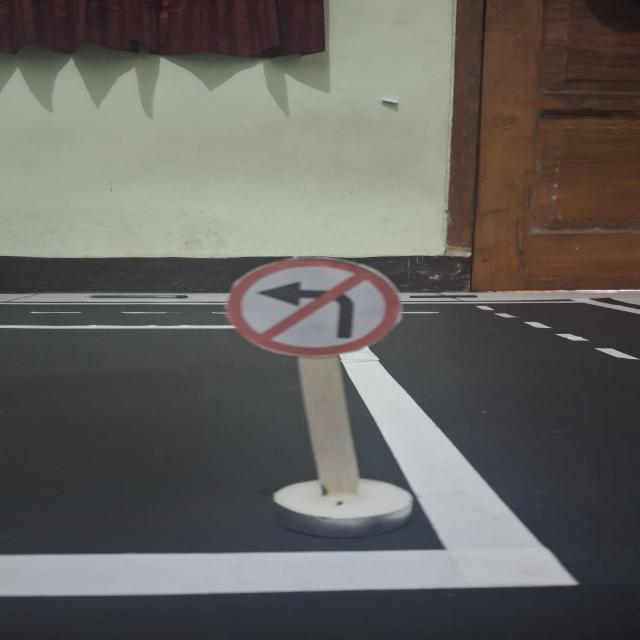Dilarang Belok Kiri: (226, 259, 400, 356)
